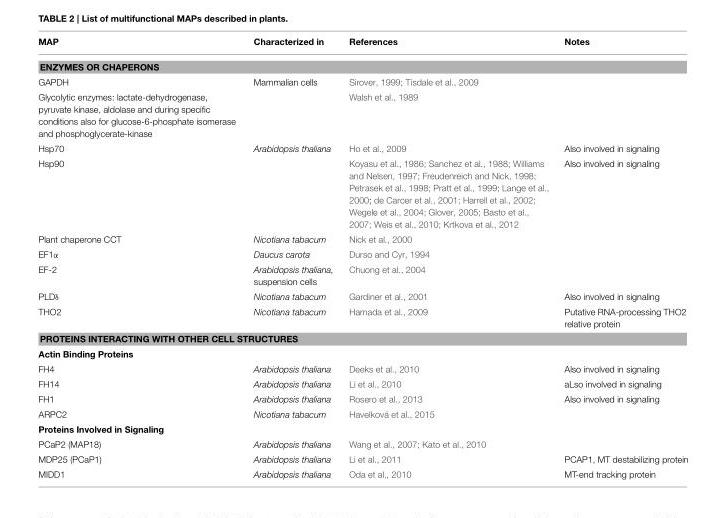table: (37, 37, 687, 478)
table column: (340, 37, 555, 478), (37, 37, 243, 478), (555, 37, 687, 478), (243, 37, 340, 478)
table column header: (37, 37, 687, 54)
table projected row header: (37, 54, 687, 74), (37, 331, 687, 346), (37, 346, 687, 361), (37, 421, 687, 436)
table row: (37, 155, 687, 231), (37, 89, 687, 140), (37, 261, 687, 289), (37, 304, 687, 331), (37, 54, 687, 74), (37, 37, 687, 54), (37, 74, 687, 89), (37, 140, 687, 155), (37, 231, 687, 246), (37, 246, 687, 261), (37, 289, 687, 304), (37, 331, 687, 346), (37, 346, 687, 361), (37, 361, 687, 376), (37, 376, 687, 391), (37, 391, 687, 406), (37, 406, 687, 421), (37, 421, 687, 436), (37, 436, 687, 451), (37, 451, 687, 466), (37, 466, 687, 478)
